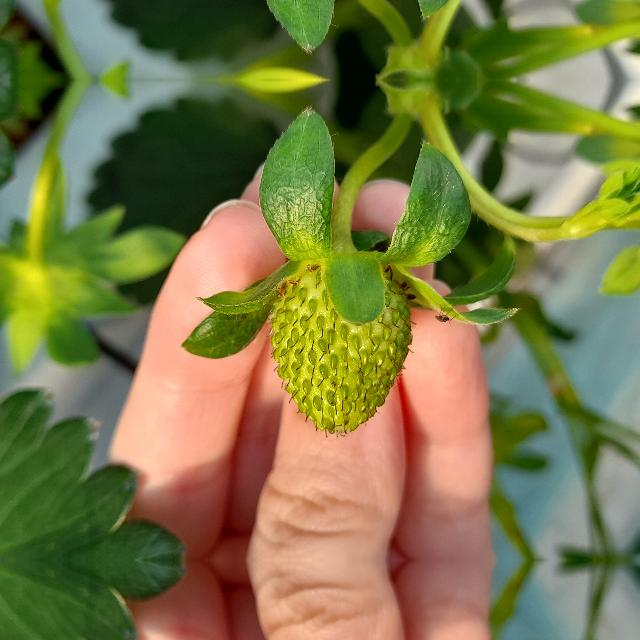Health_25: (265, 258, 417, 437)
